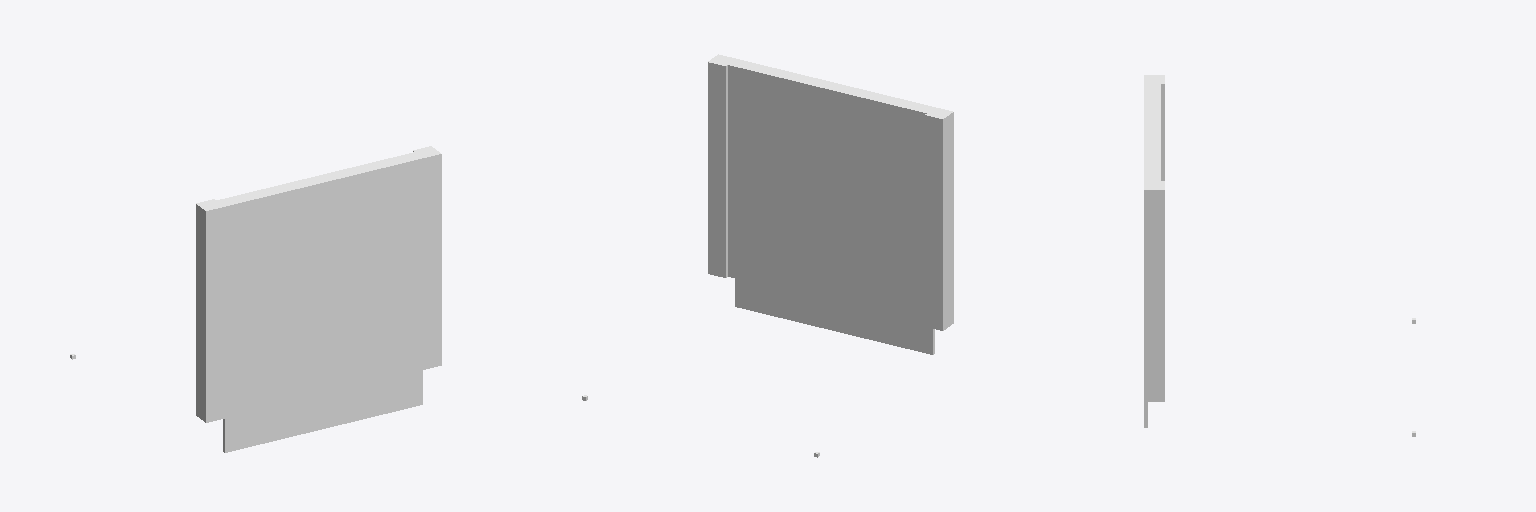
Rendered from Wall-1000.obj.
3 views of the same model, side by side, from view 1: azimuth 30°, elevation 25°; view 2: azimuth 150°, elevation 25°; view 3: azimuth 270°, elevation 25° (orthographic).
Bounding box in the file's own units: 64 × 64 × 64.